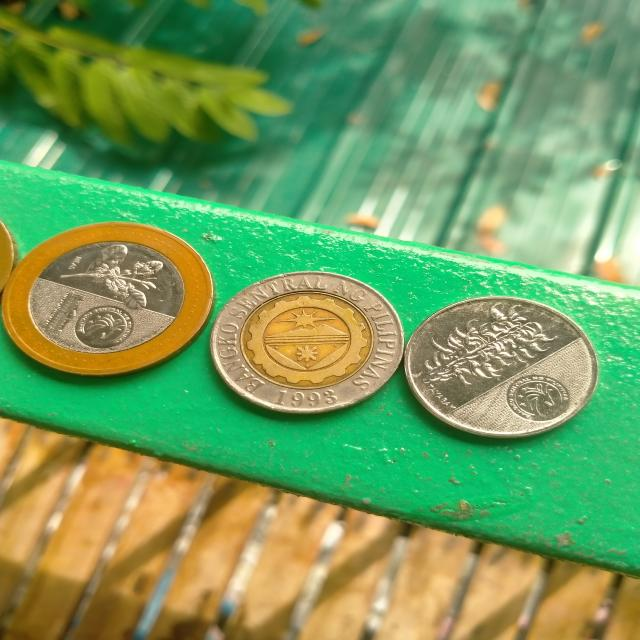10_Old_Back: (202, 276, 404, 416)
20_New_Back: (47, 238, 171, 315)
5_New_Back: (419, 301, 568, 393)
